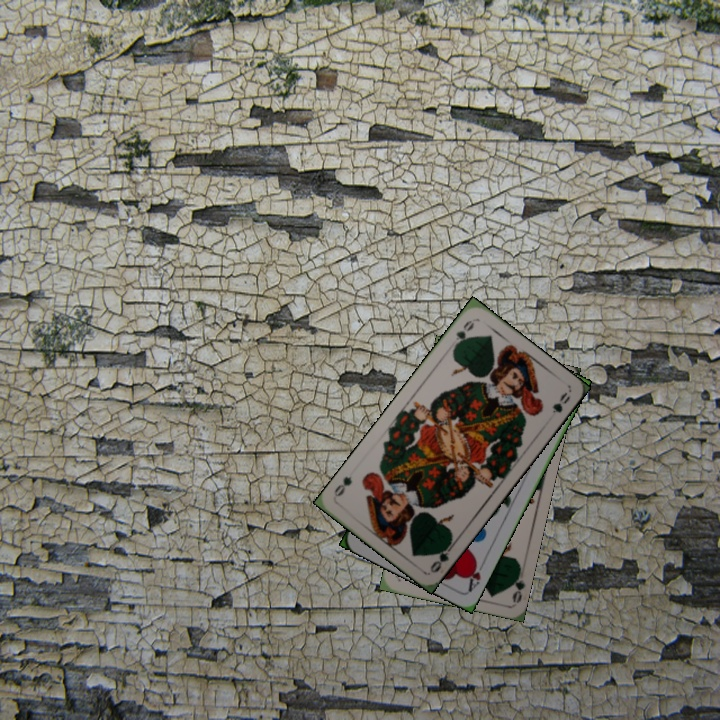GO: (426, 537, 457, 575), (450, 316, 477, 352), (506, 563, 527, 604)
HA: (463, 554, 487, 594)
